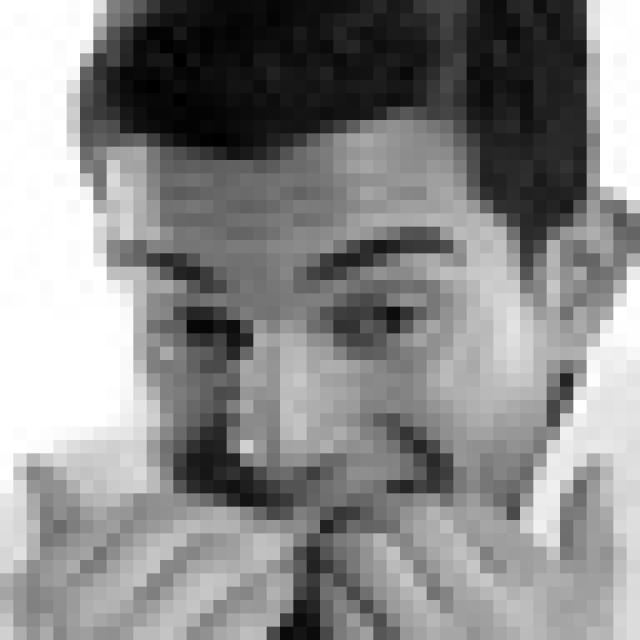fear: (130, 210, 482, 568)
